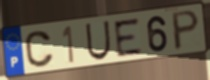1: (61, 24, 76, 65)
6: (145, 15, 170, 54)
C: (24, 30, 56, 69)
E: (112, 16, 144, 59)
P: (171, 9, 201, 53)
U: (84, 19, 112, 62)
